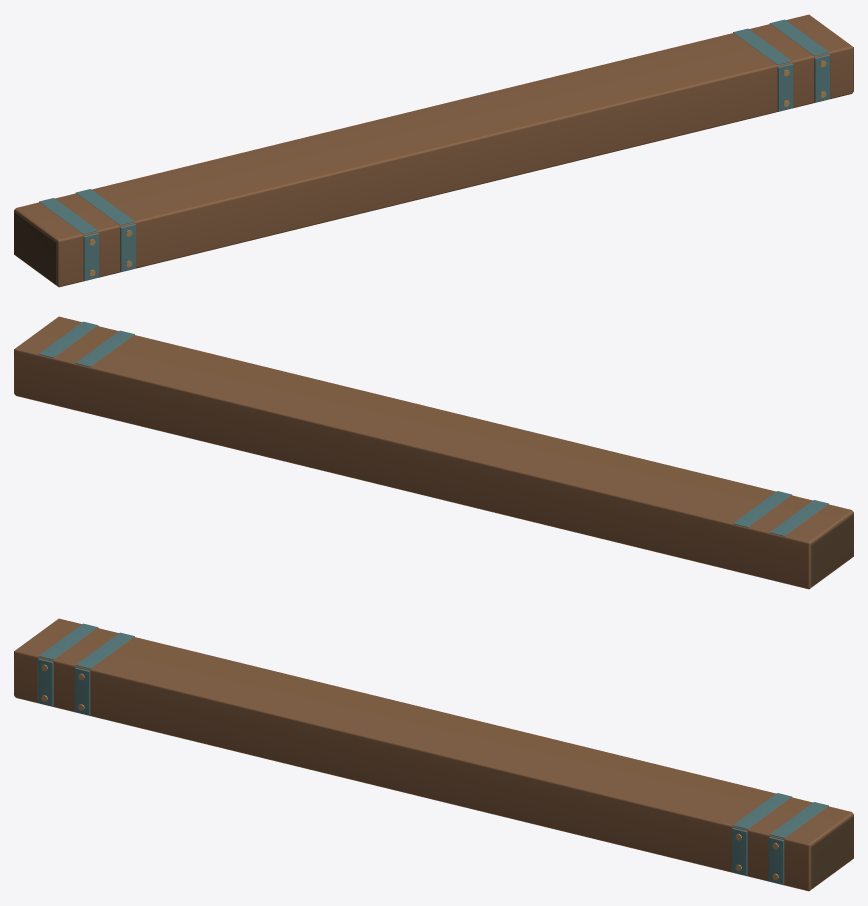
The model's file is w0b-movers-gate-header.glb.
The picture shows the model from 3 angles, top to bottom: view 1: azimuth 30°, elevation 25°; view 2: azimuth 150°, elevation 25°; view 3: azimuth 330°, elevation 25°; orthographic projection.
Visible parts, largest first — view 1: Movers header | seasoned oak, Movers header | blue steel, Movers header | smoked grain ends; view 2: Movers header | seasoned oak, Movers header | blue steel, Movers header | smoked grain ends; view 3: Movers header | seasoned oak, Movers header | blue steel, Movers header | smoked grain ends.
Part boxes in pixels (x1,y1,x2,y2): Movers header | seasoned oak: (14, 14, 853, 287); Movers header | blue steel: (39, 19, 830, 280); Movers header | smoked grain ends: (14, 211, 56, 284); Movers header | seasoned oak: (14, 316, 853, 589); Movers header | blue steel: (39, 321, 828, 536); Movers header | smoked grain ends: (811, 513, 853, 586); Movers header | seasoned oak: (14, 618, 853, 891); Movers header | blue steel: (37, 623, 828, 884); Movers header | smoked grain ends: (811, 815, 853, 888).
Size of the model in its own units: 13.87 by 0.804 by 1.41.
